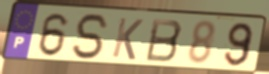6: (35, 12, 71, 59)
8: (185, 19, 218, 68)
9: (223, 21, 256, 69)
B: (143, 17, 185, 64)
K: (110, 16, 145, 63)
S: (71, 12, 111, 62)
